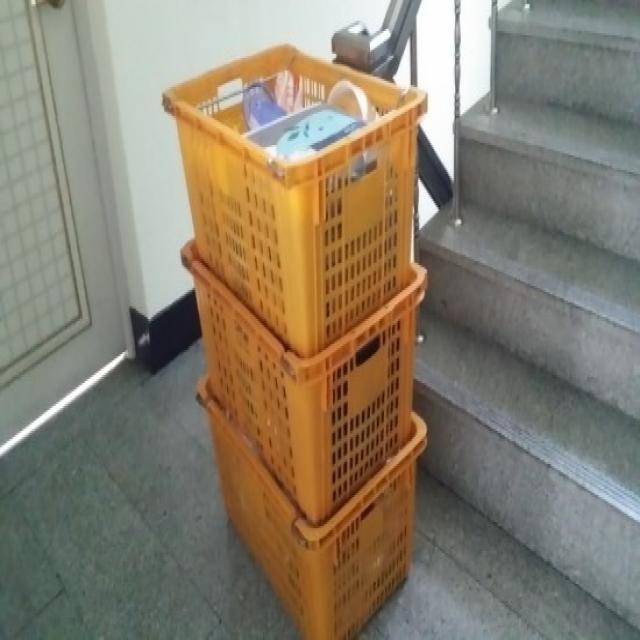basket: (135, 31, 433, 365), (153, 239, 430, 532), (159, 377, 436, 640)
